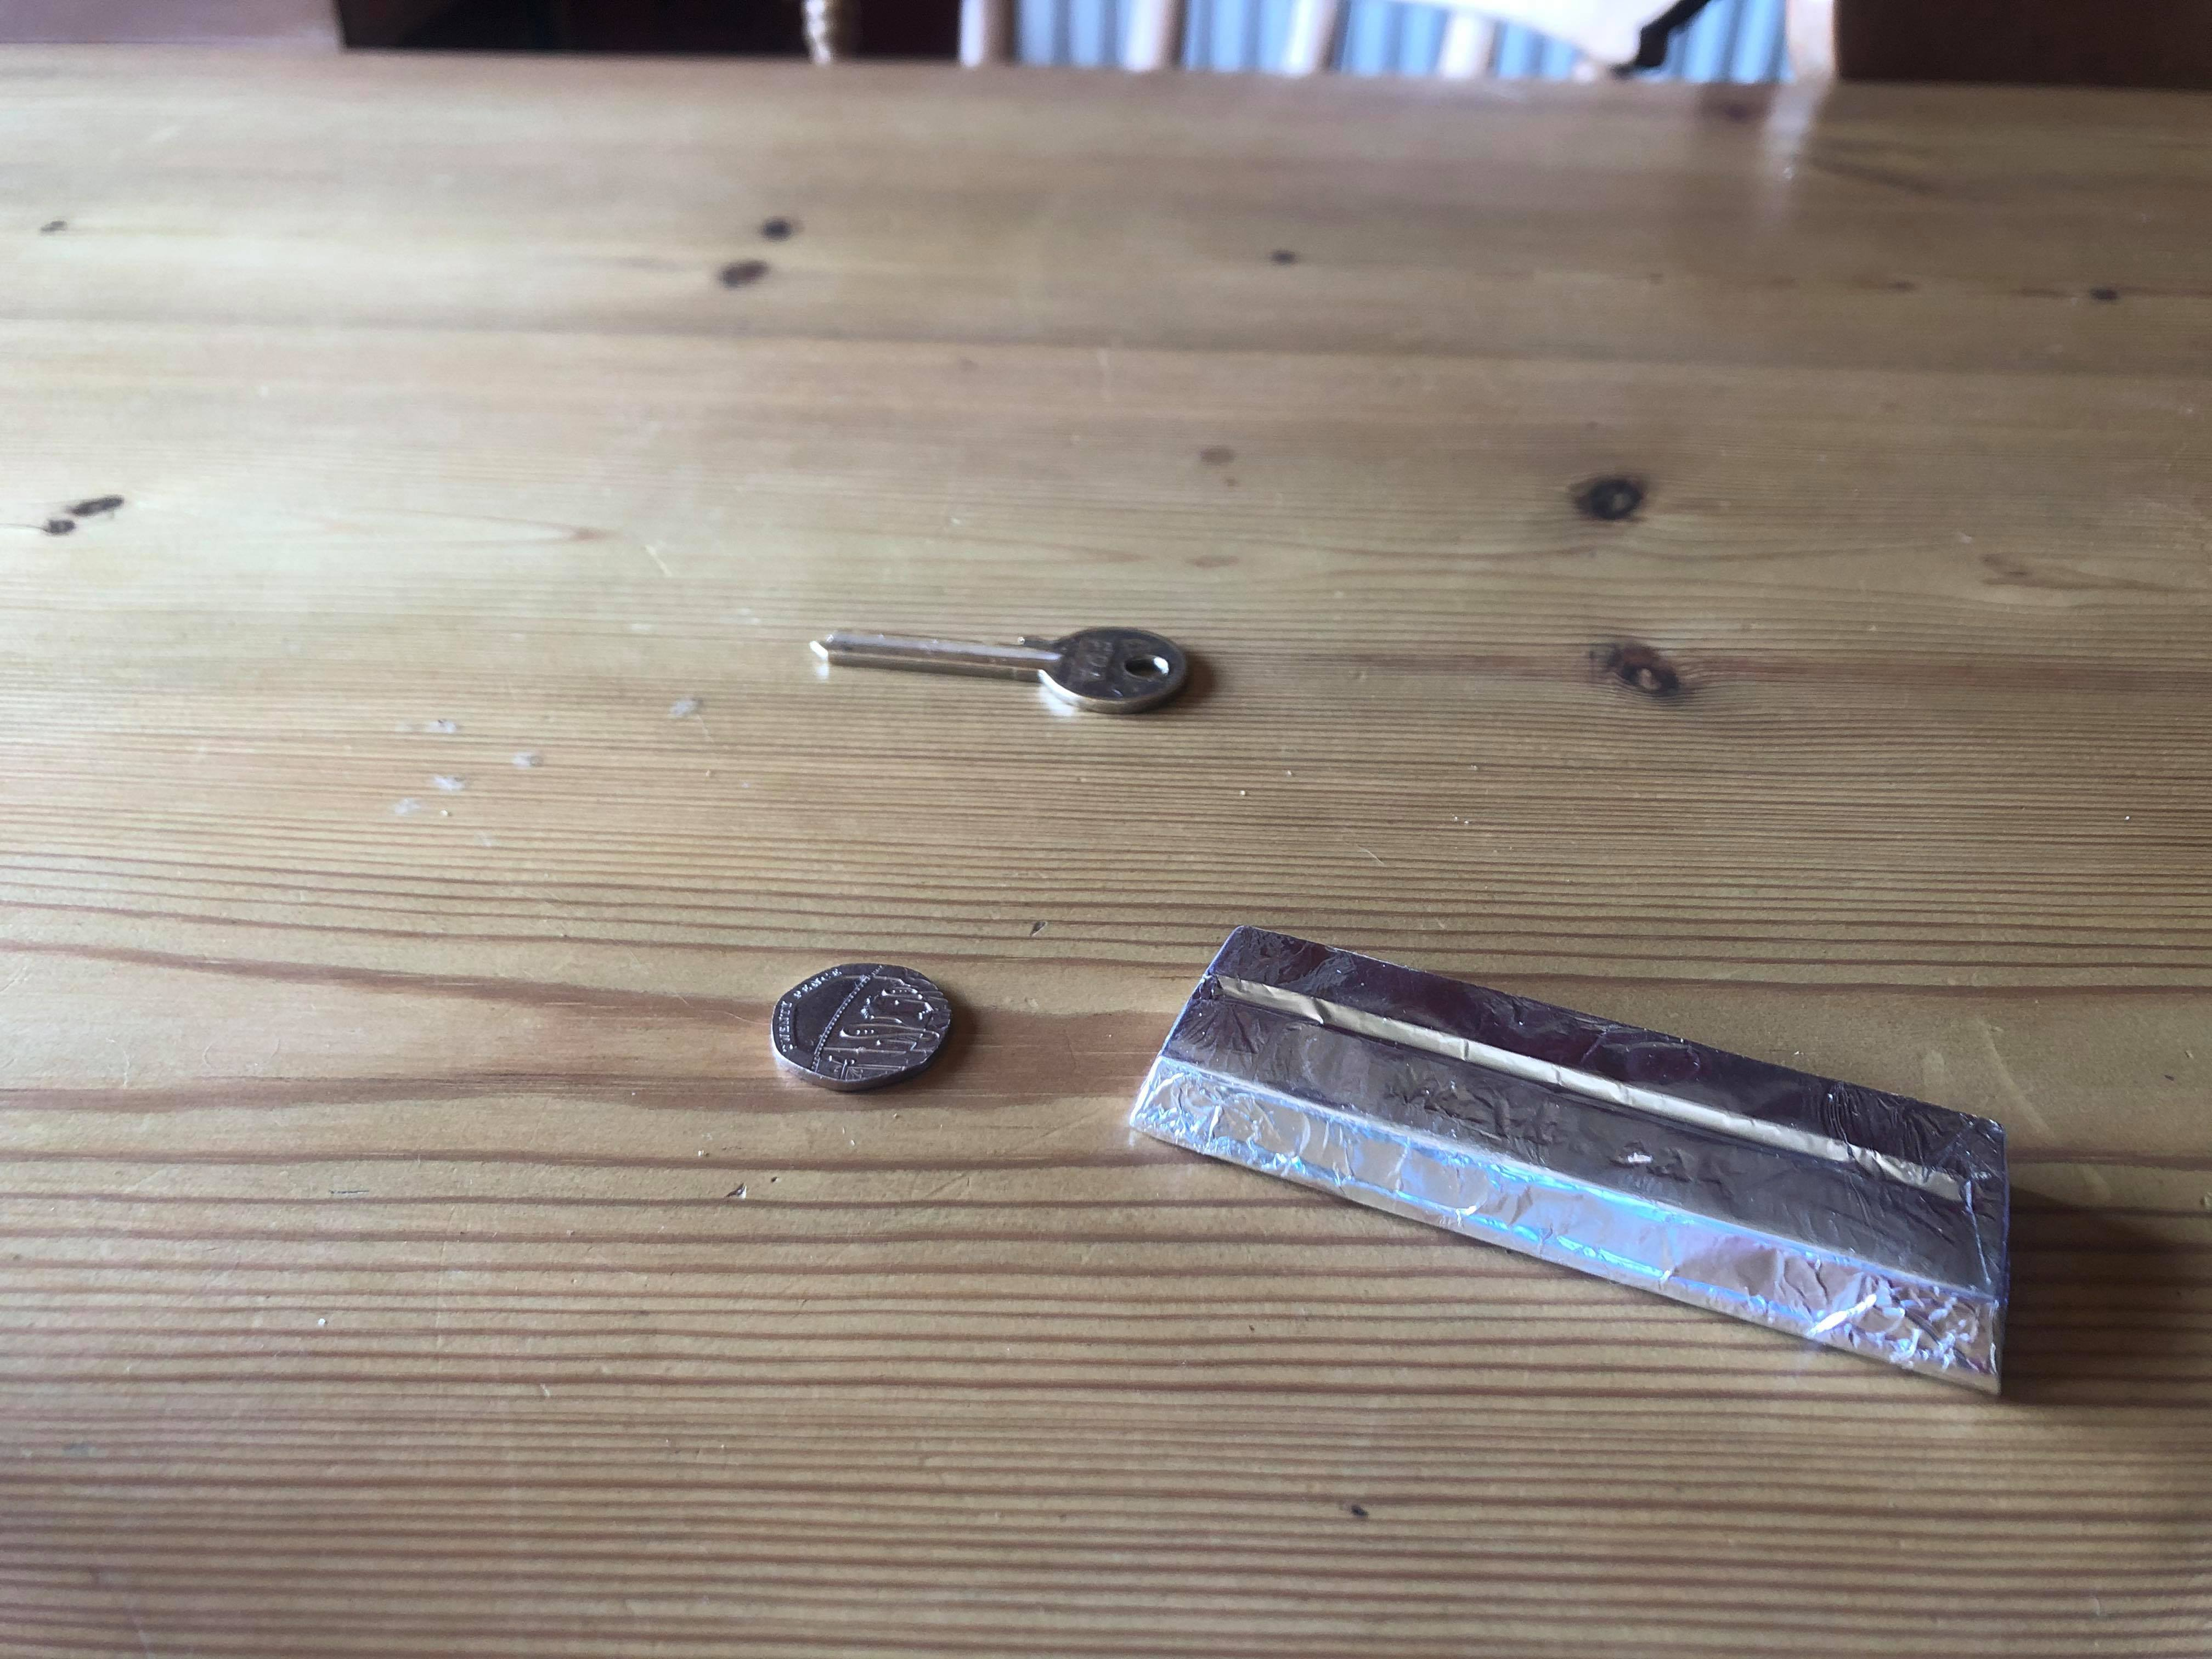Coin: (756, 957, 961, 1094)
Foil: (1111, 913, 2017, 1405)
Key: (784, 610, 1207, 725)
